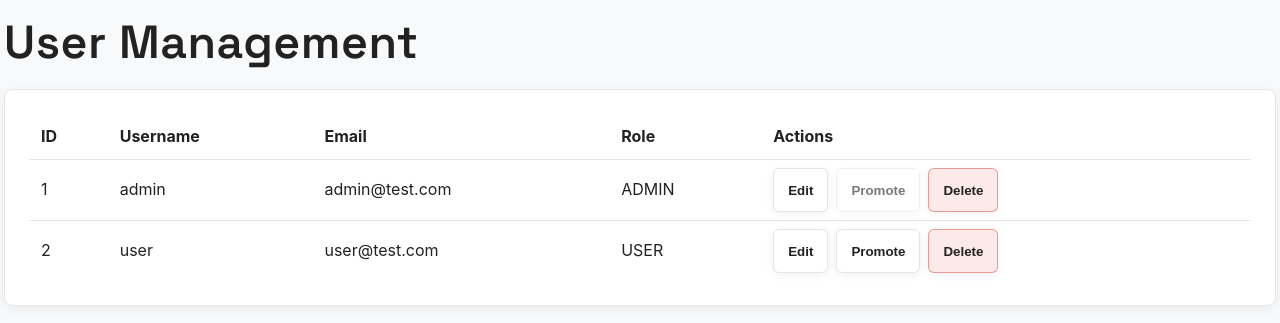
AdminUsers › should allow deleting a user
The image size is (1280, 323).
Expected: the text "user@test.com" is shown, [312, 220, 609, 281]
Click the button "Delete" in the row of "user@test.com". click: (964, 251)
box: [928, 229, 998, 273]
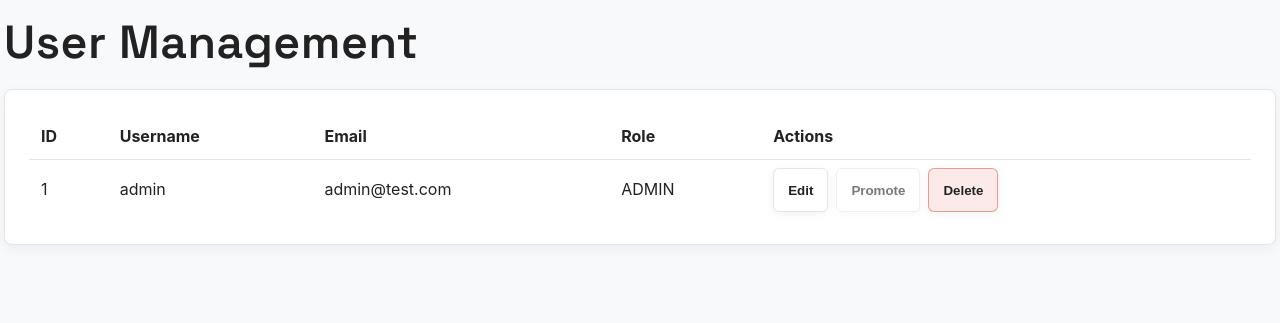
Result: the text "user@test.com" is gone
